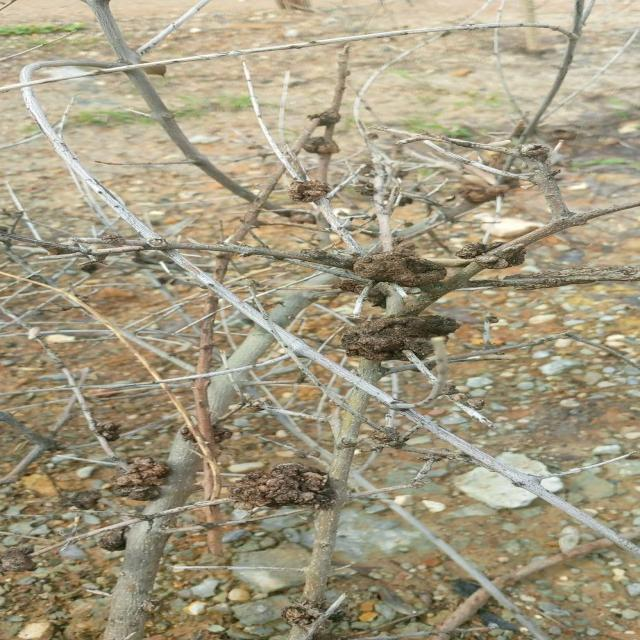Tuberculosis: (340, 314, 460, 360), (340, 246, 446, 294), (230, 463, 332, 510), (111, 458, 171, 500), (86, 528, 128, 554), (288, 179, 330, 203), (0, 546, 36, 574), (456, 242, 505, 261), (302, 136, 339, 160), (484, 249, 524, 269), (308, 108, 340, 130), (94, 421, 120, 443)
